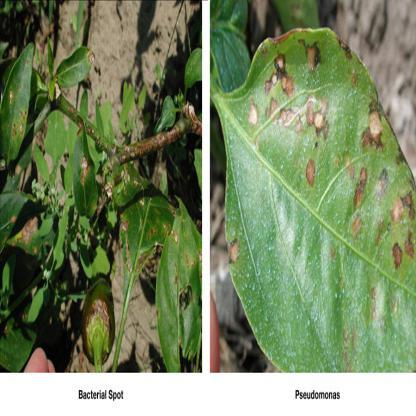Bell_pepper leaf: (220, 18, 416, 371), (154, 194, 202, 376), (120, 183, 178, 286), (1, 43, 36, 180), (70, 117, 101, 227), (52, 43, 98, 98)
